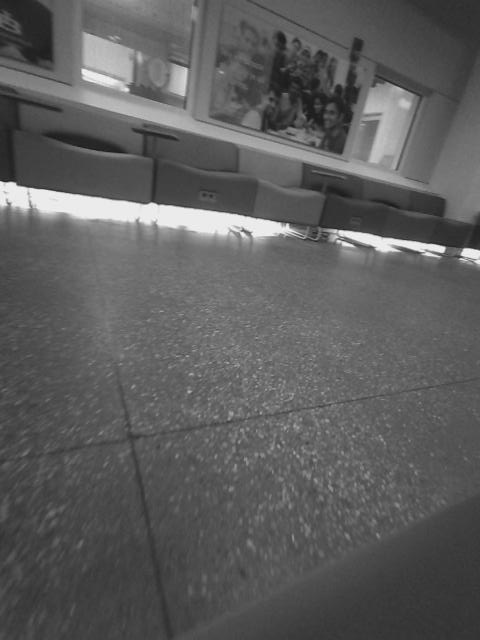ball: (216, 240, 264, 288)
